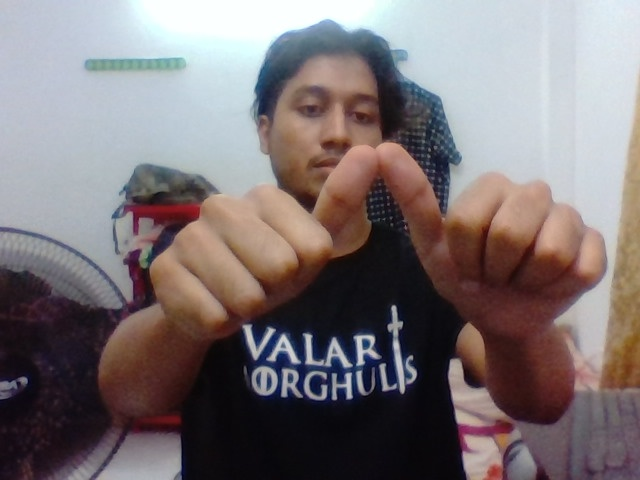A: (137, 103, 623, 344)
